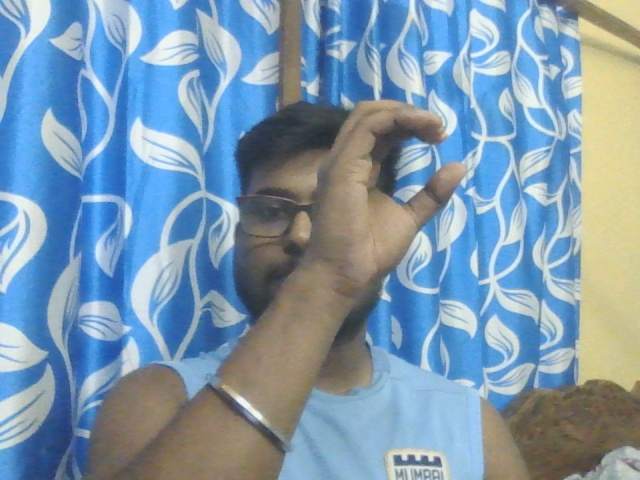C: (314, 101, 466, 285)
